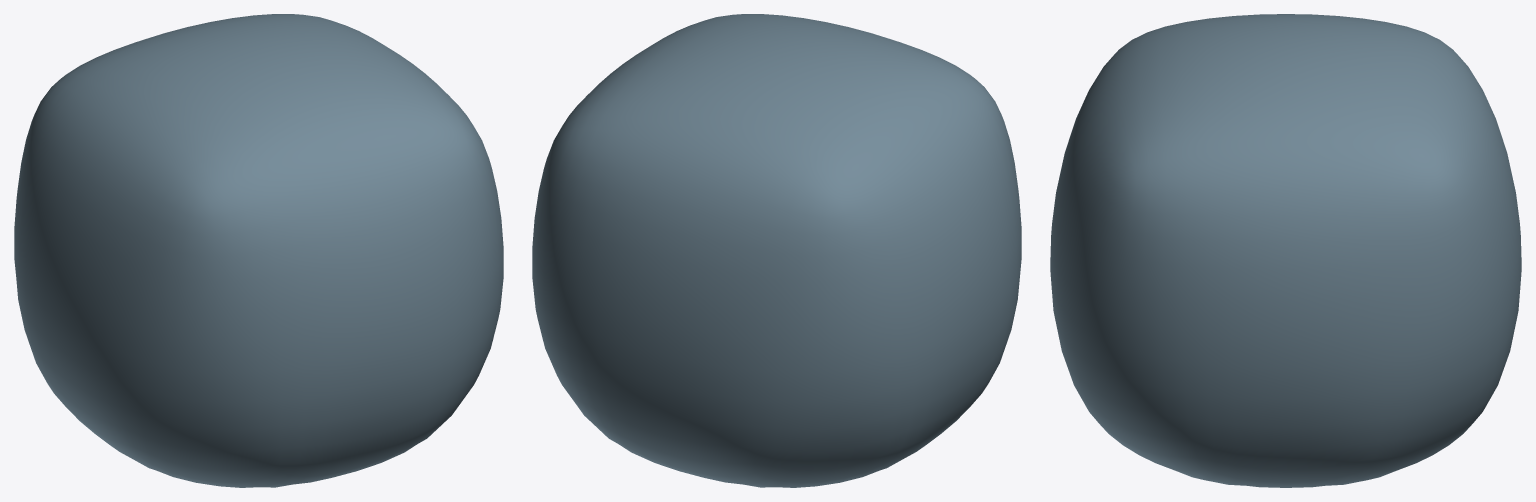
Rendered from Pouf2_10.fbx.
3 views of the same model, side by side, from view 1: azimuth 30°, elevation 25°; view 2: azimuth 150°, elevation 25°; view 3: azimuth 270°, elevation 25° (orthographic).
Visible parts, largest first — view 1: pCube2903; view 2: pCube2903; view 3: pCube2903.
Part boxes in pixels (box(x1,y1,x2,y2)): pCube2903: box(14, 14, 503, 487); pCube2903: box(532, 14, 1021, 487); pCube2903: box(1050, 14, 1521, 487).
Bounding box in the file's own units: 32.68 × 31.09 × 32.67.
